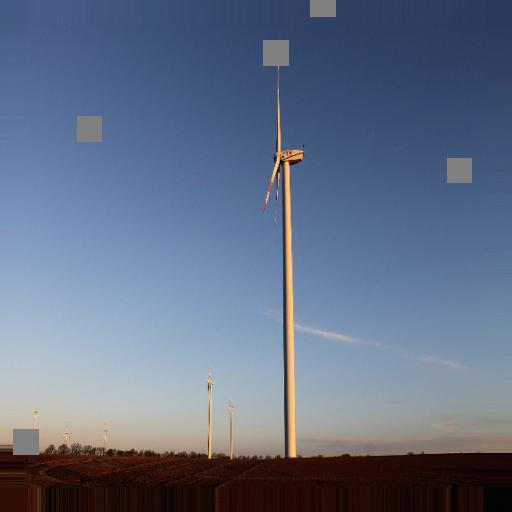wind turbine: (258, 62, 307, 468)
